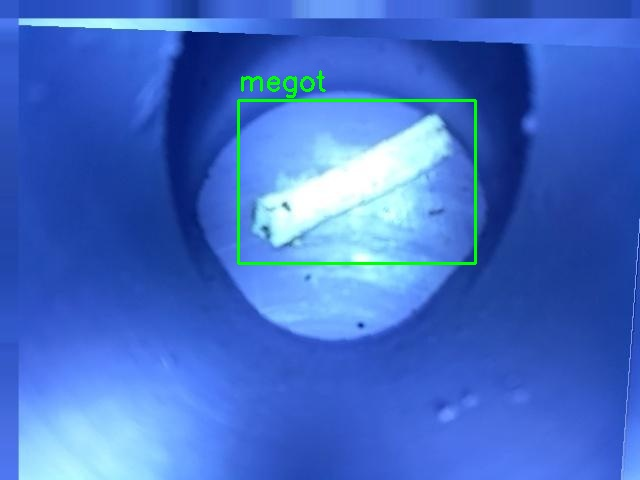megot: (238, 100, 475, 263)
